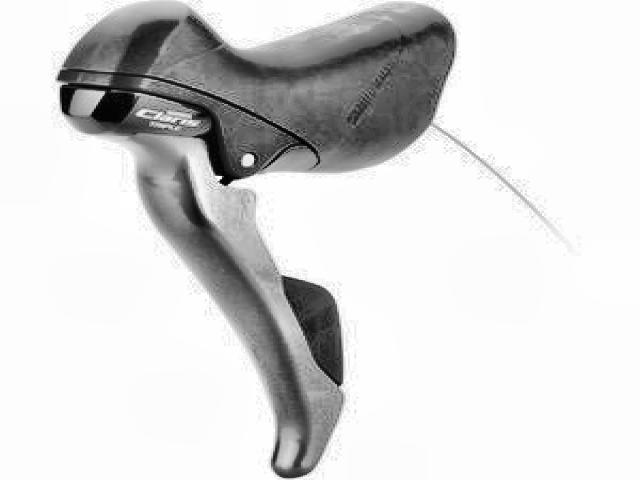sti_shifter: (58, 0, 447, 480)
